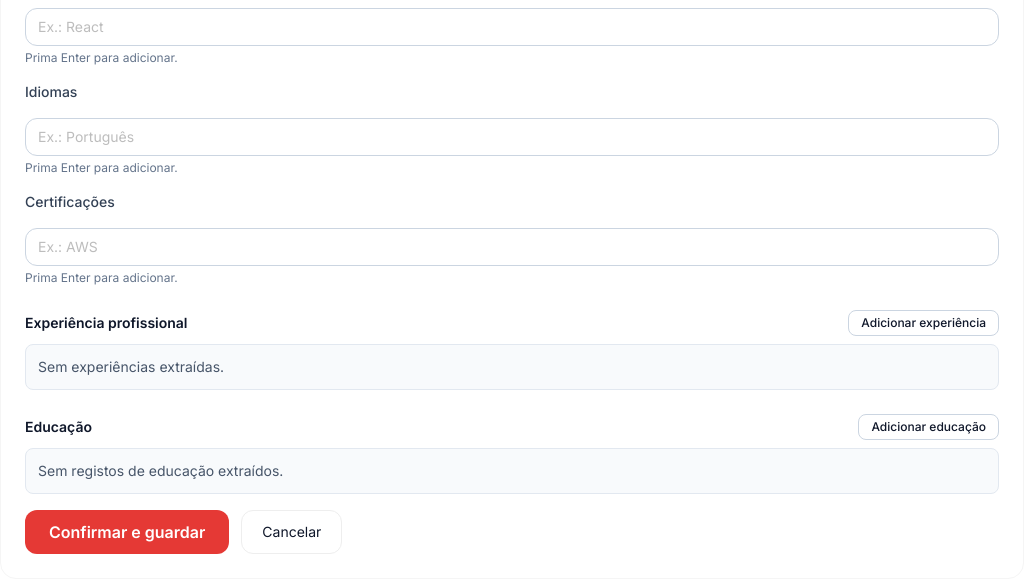
Test case: CV e Documentos — ParsedFieldsForm error consistency › blocks submission and renders an inline alert for an invalid email, focusing the field
(page scrolled)
Click the button "Confirmar e guardar" at coordinates (127, 532), box x1=25 y1=510 x2=229 y2=554
(page scrolled)
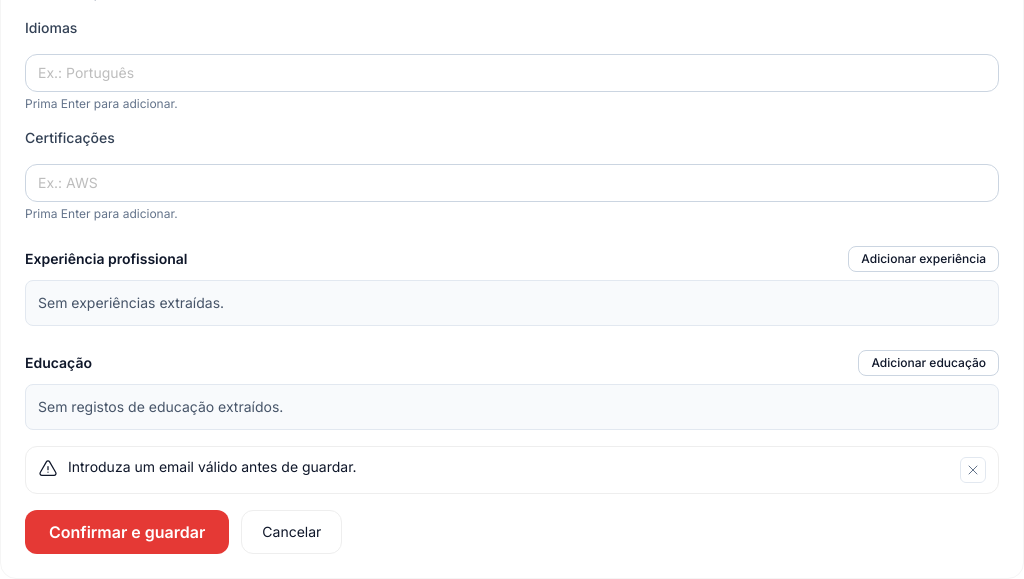
Now the message reads "Introduza um email válido antes de guardar.", box x1=68 y1=458 x2=357 y2=475
